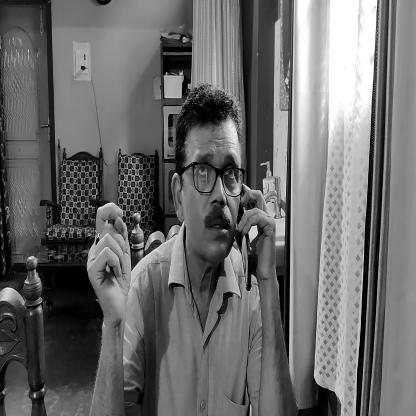Distracted: (172, 103, 242, 259)
